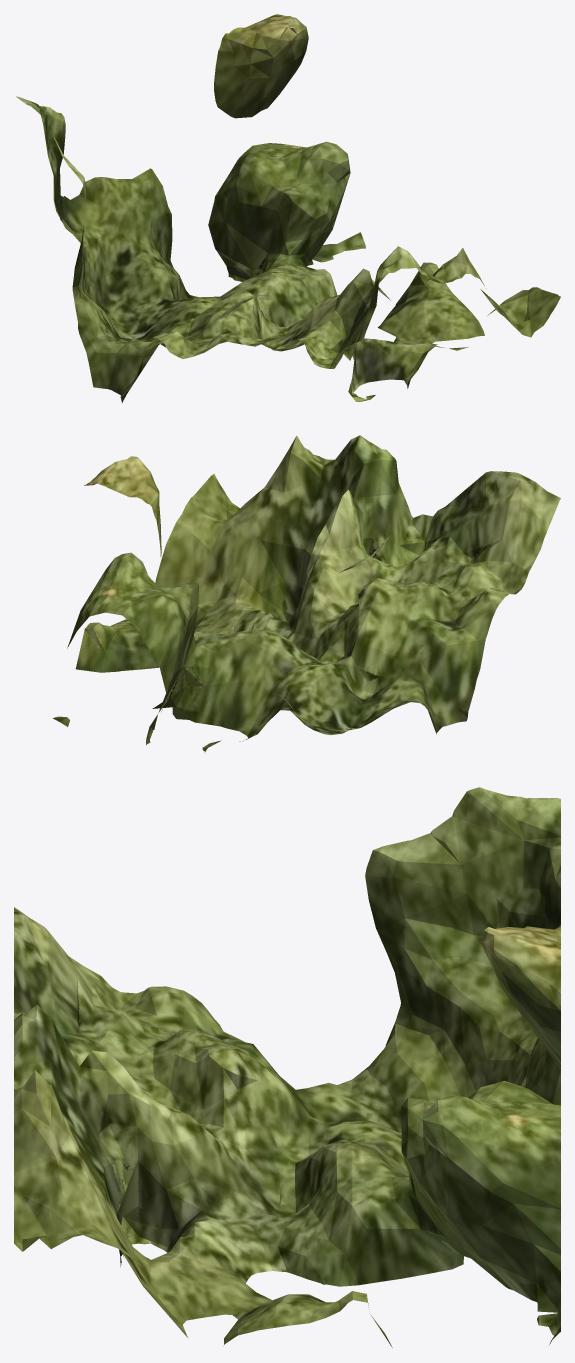
3 renders of one model, top to bottom at view 1: azimuth 30°, elevation 25°; view 2: azimuth 150°, elevation 25°; view 3: azimuth 270°, elevation 25°, orthographic. The views are drawn at different scales.
Size of the model in its own units: 2.95 by 2.12 by 2.95.
Materials: 4 (4 with a texture image).
